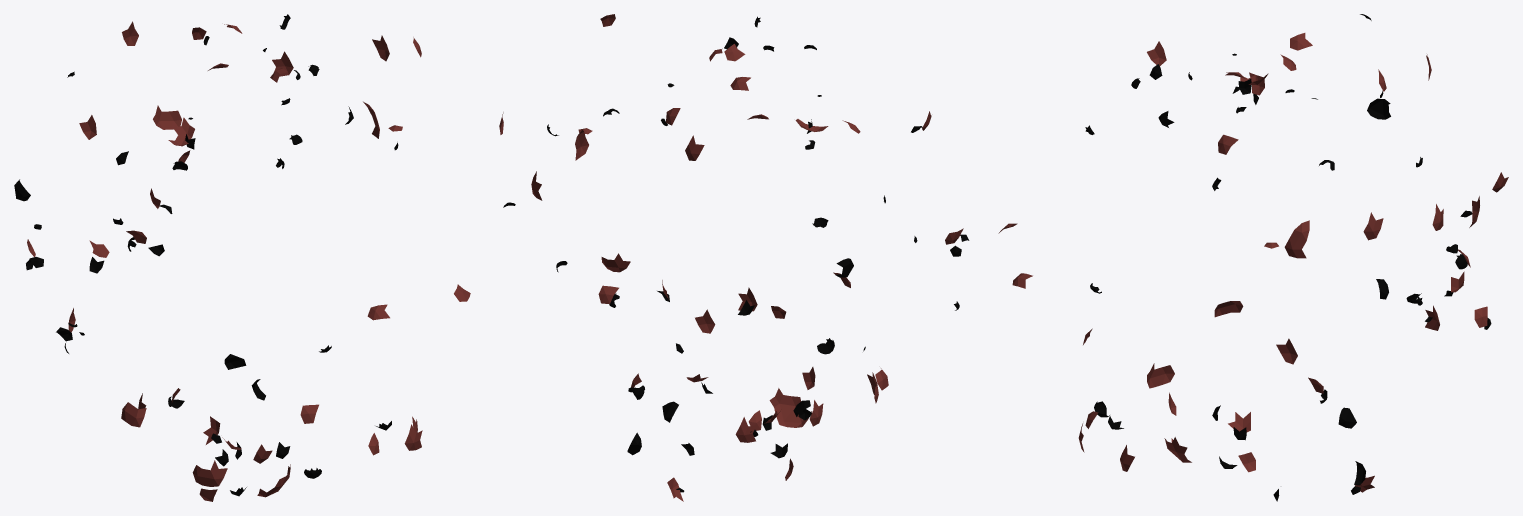
The model's file is explode.f0021.glb.
The picture shows the model from 3 angles, left to right: view 1: azimuth 30°, elevation 25°; view 2: azimuth 150°, elevation 25°; view 3: azimuth 270°, elevation 25°; orthographic projection. The views are drawn at different scales.
Visible parts, largest first — view 1: Body.001; view 2: Body.001; view 3: Body.001.
Boxes of the visible parts, bbox=[...] form: Body.001: bbox=[14, 14, 470, 501]; Body.001: bbox=[499, 14, 969, 501]; Body.001: bbox=[998, 14, 1508, 501].
Size of the model in its own units: 15.93 by 16.35 by 16.53.
Materials: 1 (1 with a texture image).
